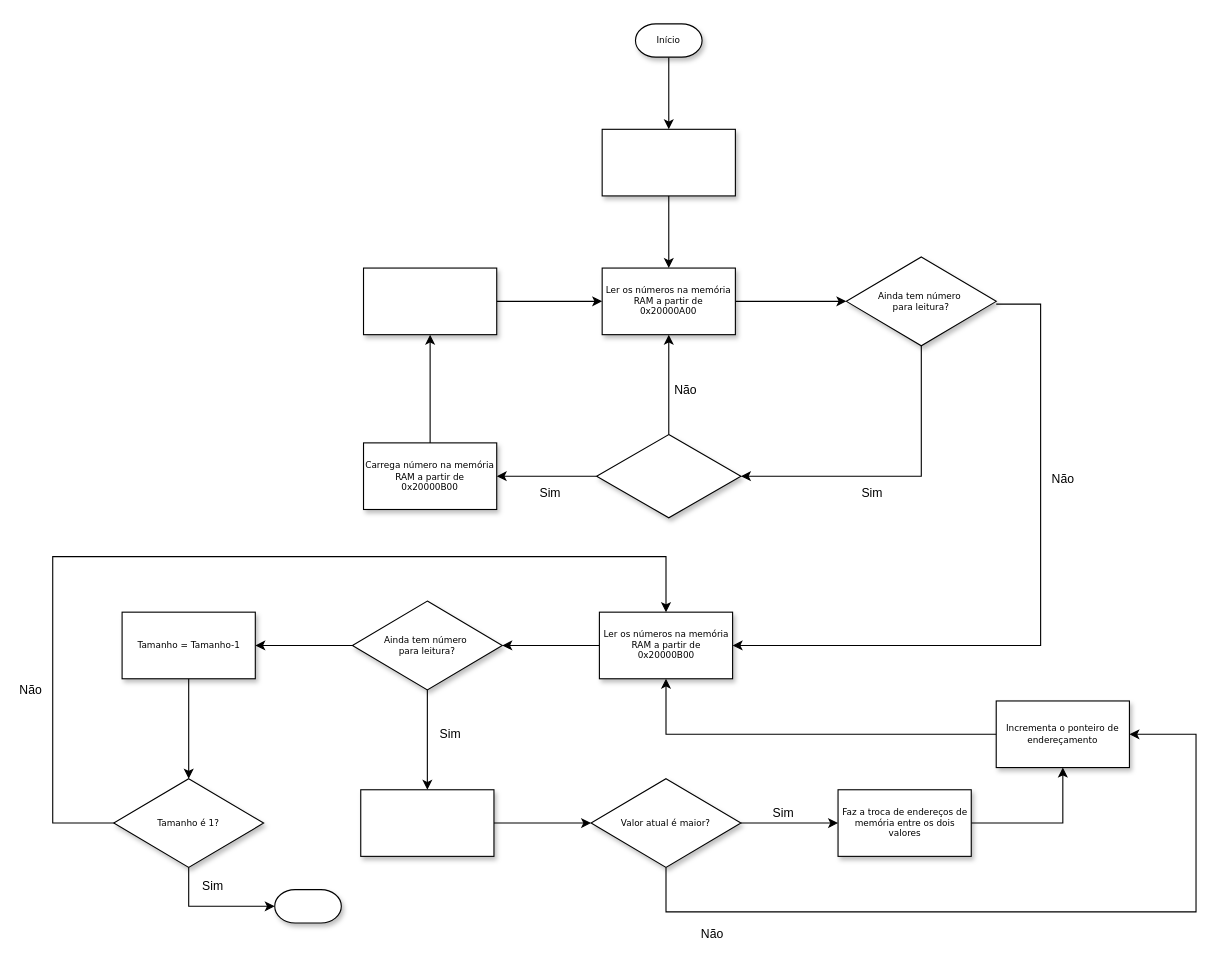
Some shapes in this 1224 by 960 pixel diagram are drawn without their labels. The centre of each missing label's shape, as x and y in pixels:
Carregar os números na memória RAM a partir de 0x20000A00: (669,164)
Compara o valor atual com o próximo valor: (428,824)
End: (308,907)
Tamanho= Tamanho + 1 Incrementa ponteiro de endereçamento: (430,302)
É número primo?: (669,477)
